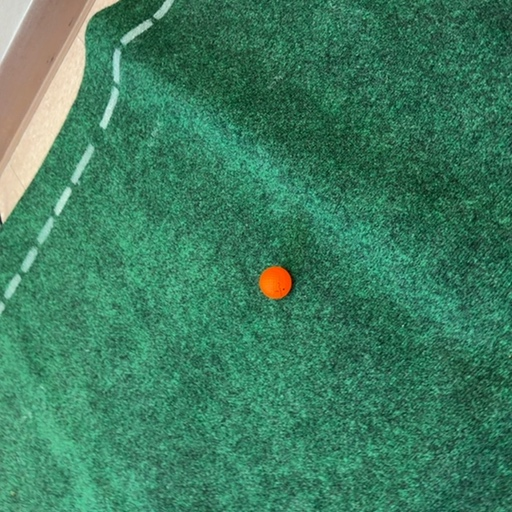Ball: (260, 266, 292, 299)
